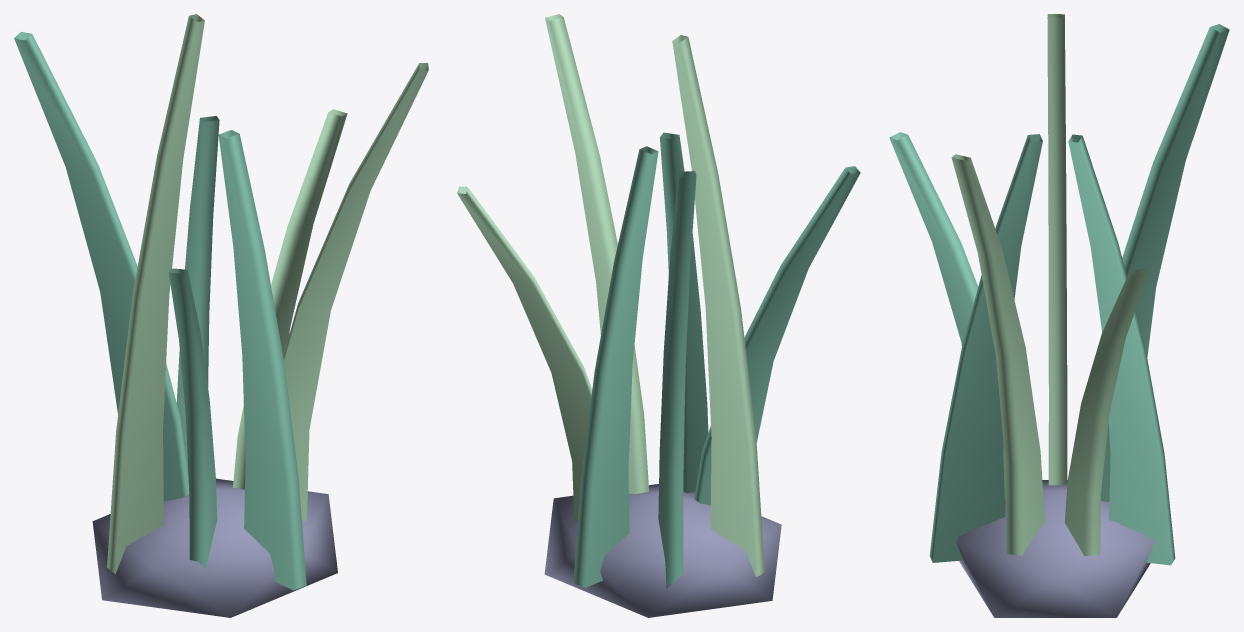
File: seagrass_1.glb
3 renders of one model, left to right at view 1: azimuth 30°, elevation 25°; view 2: azimuth 150°, elevation 25°; view 3: azimuth 270°, elevation 25°, orthographic. The views are drawn at different scales.
Parts seen in each view (by area): view 1: SeagrassPass35_1Mesh; view 2: SeagrassPass35_1Mesh; view 3: SeagrassPass35_1Mesh.
Boxes of the visible parts, x1,y1,x2,y2 form: SeagrassPass35_1Mesh: (14,14,428,617); SeagrassPass35_1Mesh: (457,14,860,617); SeagrassPass35_1Mesh: (889,14,1229,617).
Size of the model in its own units: 0.9861 by 1.87 by 0.9946.
